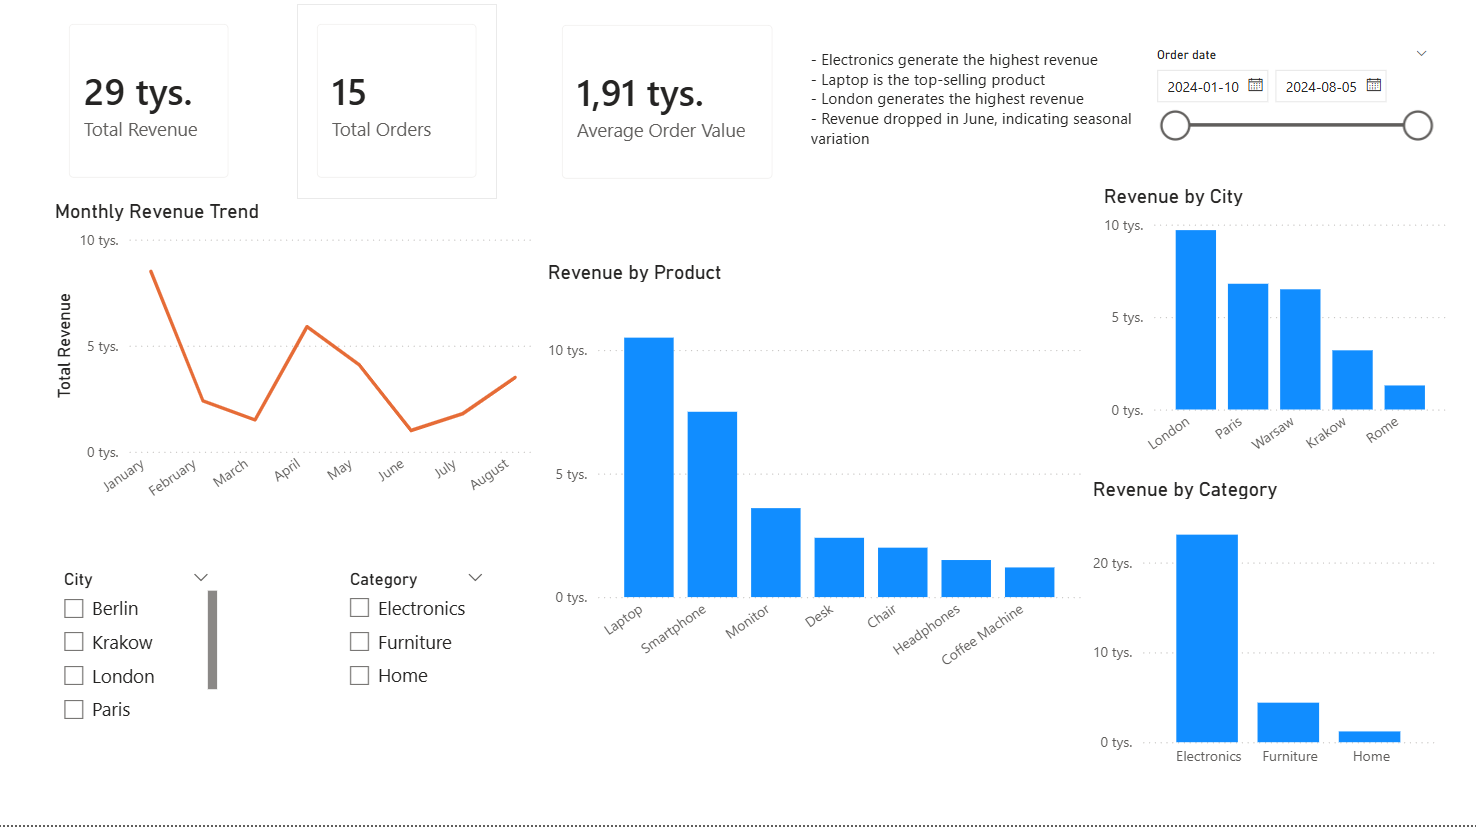

Layout of this report page (visuals, bound fields, positions):
{"tool":"powerbi","page":{"name":"Strona 1","canvas":[1280,720],"ordinal":0},"visuals":[{"type":"columnChart","fields":{"Category":["products.category"],"Y":["orders.Total Revenue"]},"box":[942.5,420,306.2,258.8],"z":0},{"type":"lineChart","fields":{"Category":["orders.order_date.Odmiana.Hierarchia dat.Miesiąc"],"Y":["orders.Total Revenue"]},"box":[47.5,180,425,280],"z":1000},{"type":"columnChart","fields":{"Category":["products.product_name"],"Y":["orders.Total Revenue"]},"box":[472.5,232.5,470,373.8],"z":2000},{"type":"columnChart","fields":{"Category":["customers.city"],"Y":["orders.Total Revenue"]},"box":[952.5,167.5,306.2,252.5],"z":3000},{"type":"cardVisual","fields":{"Data":["orders.Total Revenue"]},"box":[47.5,12.5,172.5,167.5],"z":4000},{"type":"cardVisual","fields":{"Data":["orders.Total Orders"]},"box":[261.2,12.5,172.5,167.5],"z":5000},{"type":"cardVisual","fields":{"Data":["orders.Avg Order Value"]},"box":[472.5,12.5,172.5,167.5],"z":6000},{"type":"slicer","fields":{"Values":["customers.city"]},"box":[47.5,495,150,150],"z":7000},{"type":"slicer","fields":{"Values":["products.category"]},"box":[293.8,495,140,150],"z":8000},{"type":"slicer","fields":{"Values":["orders.order_date"]},"box":[990,45,258.8,102.5],"z":9000},{"type":"textbox","box":[711.2,60,231.2,87.5],"z":10000}]}

Visuals, with their boxes in screenshot pixels (x1, y1, x2, y2), scaled from the page's 1280x720 canvas onto the 1476x831 screenshot:
columnChart - products.category x orders.Total Revenue: 1087 485 1440 783
lineChart - orders.order_date.Odmiana.Hierarchia dat.Miesiąc x orders.Total Revenue: 55 208 545 531
columnChart - products.product_name x orders.Total Revenue: 545 268 1087 700
columnChart - customers.city x orders.Total Revenue: 1098 193 1451 485
cardVisual - orders.Total Revenue: 55 14 254 208
cardVisual - orders.Total Orders: 301 14 500 208
cardVisual - orders.Avg Order Value: 545 14 744 208
slicer - customers.city: 55 571 228 744
slicer - products.category: 339 571 500 744
slicer - orders.order_date: 1142 52 1440 170
textbox: 820 69 1087 170
